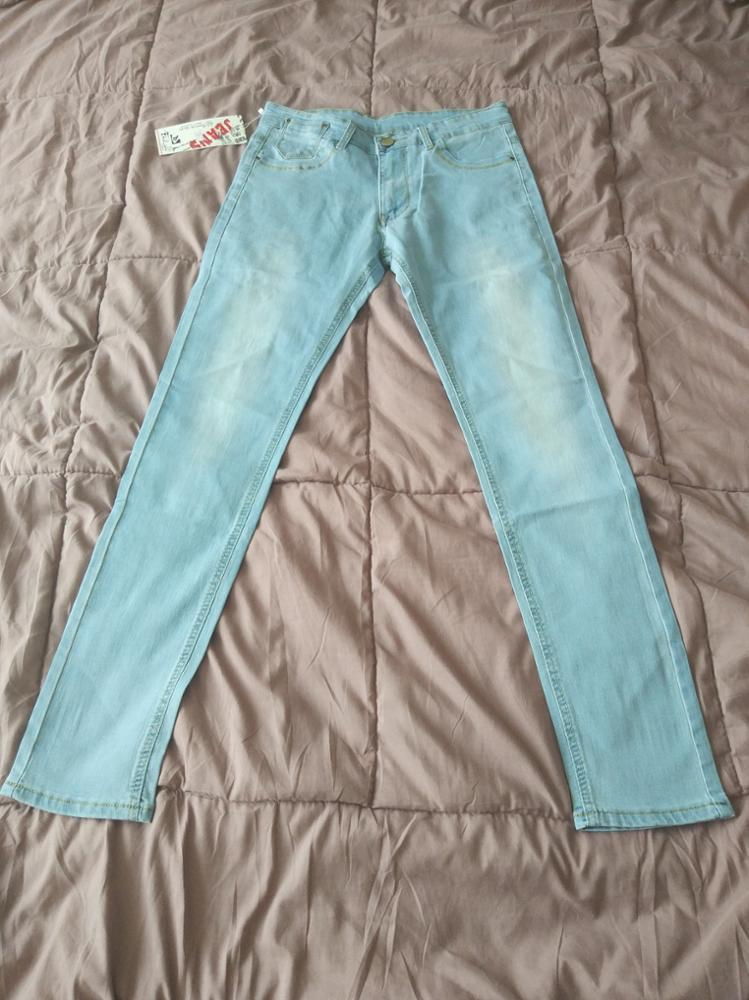jeans: (34, 99, 734, 836)
